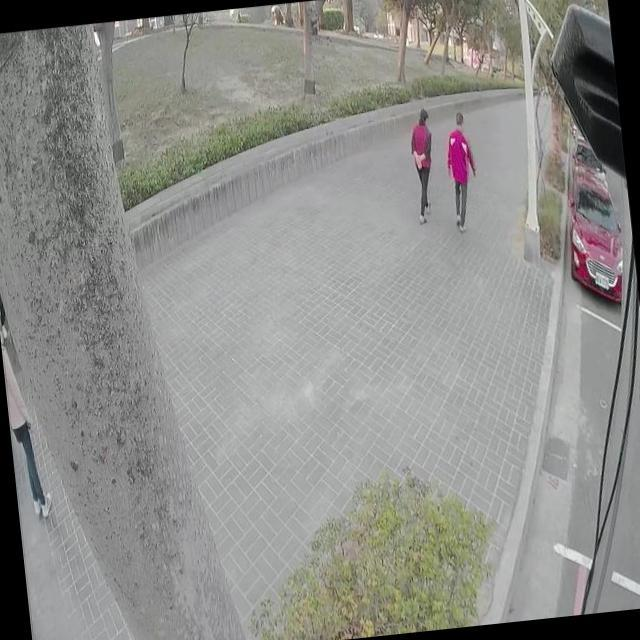person: (1, 328, 59, 530), (440, 112, 478, 230), (404, 106, 440, 222)
